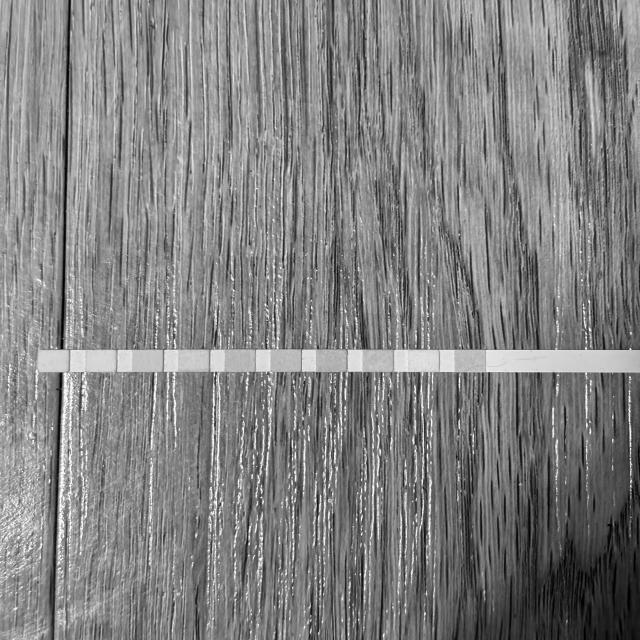Bilirubin: (409, 351, 438, 372)
Blood: (272, 350, 301, 371)
Glucose: (454, 350, 484, 372)
Ketone: (364, 350, 392, 371)
Leukocytes: (39, 351, 68, 372)
Nitrite: (86, 350, 117, 372)
Protein: (178, 350, 208, 372)
SpGravity: (318, 350, 347, 371)
Urobilinogen: (133, 350, 163, 372)
background: (0, 0, 640, 640)
pH: (226, 350, 255, 371)
strip: (39, 350, 640, 373)
